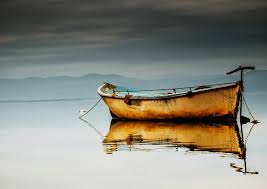boat: (96, 79, 243, 120)
